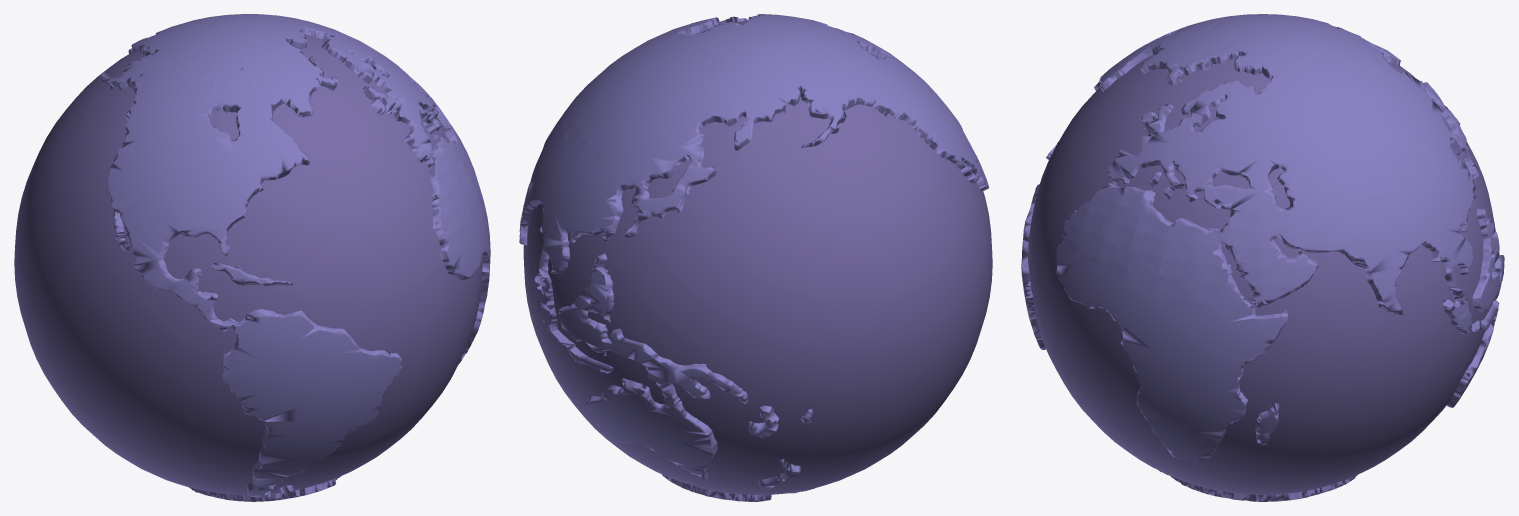
The model's file is globe.gltf.
3 renders of one model, left to right at view 1: azimuth 30°, elevation 25°; view 2: azimuth 150°, elevation 25°; view 3: azimuth 270°, elevation 25°, orthographic.
Parts seen in each view (by area): view 1: Default-Logo_OK_Chico:blinn3SG, Default-Logo_OK_Chico:phongE3SG; view 2: Default-Logo_OK_Chico:blinn3SG, Default-Logo_OK_Chico:phongE3SG; view 3: Default-Logo_OK_Chico:phongE3SG, Default-Logo_OK_Chico:blinn3SG.
Boxes of the visible parts, box(x1,y1,x2,y2) form: Default-Logo_OK_Chico:blinn3SG: box(14, 34, 482, 494); Default-Logo_OK_Chico:phongE3SG: box(101, 14, 490, 501); Default-Logo_OK_Chico:blinn3SG: box(523, 21, 992, 494); Default-Logo_OK_Chico:phongE3SG: box(519, 14, 989, 501); Default-Logo_OK_Chico:phongE3SG: box(1021, 14, 1504, 501); Default-Logo_OK_Chico:blinn3SG: box(1028, 54, 1495, 494).
Bounding box in the file's own units: 1.46 × 1.51 × 1.49.
